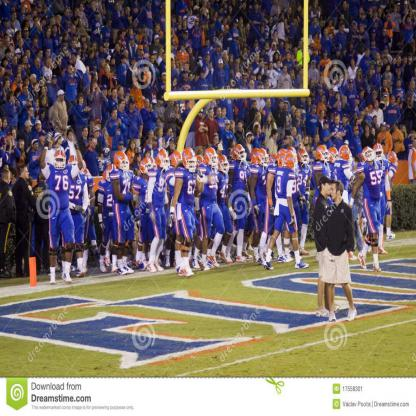face: (330, 184, 338, 201), (325, 183, 332, 195), (57, 157, 64, 167), (188, 161, 195, 170), (222, 162, 228, 172), (211, 156, 217, 166), (8, 135, 14, 145), (25, 168, 30, 179), (239, 151, 244, 162), (146, 165, 152, 174), (20, 142, 25, 152), (13, 130, 18, 140), (122, 161, 127, 171), (17, 92, 22, 102), (9, 170, 14, 180), (227, 16, 233, 24), (26, 78, 31, 87), (69, 66, 74, 75), (302, 156, 308, 163), (323, 153, 329, 160), (217, 150, 223, 157), (377, 152, 383, 159), (263, 157, 268, 165), (127, 7, 131, 17), (238, 122, 243, 130), (37, 125, 42, 133), (25, 86, 29, 96), (42, 134, 47, 142), (70, 131, 74, 141), (47, 49, 51, 59), (268, 100, 273, 108), (117, 45, 122, 53), (30, 108, 34, 117), (43, 97, 47, 106), (18, 75, 22, 84), (14, 57, 18, 66), (11, 94, 15, 103), (132, 142, 136, 151), (27, 50, 31, 59), (93, 140, 97, 149), (114, 111, 118, 120), (109, 20, 113, 29), (145, 101, 150, 108), (170, 142, 175, 149), (94, 84, 99, 91), (57, 59, 62, 66), (356, 99, 361, 106), (96, 131, 101, 138), (258, 115, 263, 122), (411, 134, 416, 141), (210, 110, 214, 118), (35, 142, 39, 150), (42, 111, 46, 119), (122, 102, 126, 110), (37, 58, 41, 66), (7, 39, 11, 47), (84, 129, 88, 137), (47, 58, 51, 66), (37, 8, 42, 14), (265, 84, 270, 90), (42, 20, 47, 26), (320, 20, 325, 26), (218, 110, 222, 117), (223, 110, 227, 117), (131, 103, 135, 110), (7, 82, 11, 89), (116, 81, 120, 88), (25, 57, 29, 64), (169, 130, 173, 137), (94, 76, 98, 83), (384, 81, 388, 88), (254, 103, 258, 110), (186, 65, 190, 72), (114, 90, 118, 97), (336, 118, 340, 125), (66, 51, 70, 58), (313, 63, 317, 70), (18, 52, 22, 59), (40, 52, 44, 59), (35, 19, 39, 26), (26, 23, 30, 30), (54, 27, 58, 34), (26, 31, 30, 38), (5, 121, 9, 128), (398, 82, 402, 89), (316, 136, 320, 143), (285, 104, 289, 111), (33, 77, 37, 84), (43, 88, 47, 95), (155, 141, 159, 148), (150, 143, 154, 150), (151, 133, 155, 140), (52, 20, 56, 27), (8, 51, 12, 58), (72, 56, 76, 63), (306, 138, 310, 145), (109, 89, 113, 96), (301, 69, 305, 76), (49, 142, 53, 149), (383, 126, 387, 132), (392, 99, 396, 105), (36, 101, 40, 107), (347, 75, 351, 81), (147, 152, 151, 158), (387, 67, 391, 73), (93, 44, 97, 50), (54, 79, 58, 85), (104, 89, 108, 95), (107, 67, 111, 73), (259, 125, 262, 133), (173, 61, 176, 69), (185, 73, 189, 79), (325, 52, 329, 58), (98, 124, 102, 130), (14, 14, 18, 20), (160, 100, 164, 106), (171, 101, 175, 107), (177, 104, 180, 112), (325, 123, 329, 129), (199, 113, 203, 119), (172, 41, 176, 47), (220, 63, 224, 69), (313, 50, 317, 56), (374, 94, 378, 100), (366, 110, 370, 116), (116, 5, 120, 11), (360, 26, 364, 32), (243, 4, 247, 10), (61, 94, 65, 100), (59, 138, 63, 144), (19, 67, 22, 75), (121, 143, 124, 151), (138, 156, 142, 162), (270, 19, 274, 25), (300, 41, 304, 47), (34, 11, 37, 19), (79, 20, 83, 26), (73, 28, 77, 34), (59, 37, 63, 43), (356, 130, 360, 136), (366, 127, 370, 133), (360, 114, 364, 120), (113, 59, 117, 65), (398, 71, 402, 77), (398, 57, 401, 65), (251, 83, 255, 89), (259, 85, 263, 91), (254, 75, 258, 81), (278, 62, 282, 68), (163, 140, 166, 148), (124, 58, 127, 66), (5, 61, 9, 67), (133, 61, 137, 67), (207, 41, 211, 47), (269, 116, 273, 122), (298, 136, 302, 142), (384, 59, 388, 65), (357, 121, 361, 127), (376, 102, 379, 110), (361, 92, 365, 98), (311, 82, 315, 88), (67, 20, 71, 26), (375, 118, 378, 125), (373, 130, 376, 137), (344, 118, 347, 125), (294, 130, 297, 137), (351, 44, 354, 51), (344, 3, 347, 10), (134, 22, 137, 29), (121, 89, 124, 96), (234, 140, 237, 147), (78, 10, 81, 17), (127, 52, 130, 59), (161, 130, 164, 137), (231, 57, 234, 64), (29, 125, 32, 132), (355, 25, 358, 32), (48, 30, 51, 37), (4, 144, 7, 151), (297, 111, 300, 118), (285, 67, 288, 74), (409, 97, 412, 104), (20, 33, 23, 40), (191, 75, 194, 82), (81, 97, 84, 104), (209, 3, 212, 10), (276, 133, 279, 140), (152, 57, 155, 64), (342, 15, 345, 22), (5, 22, 9, 27), (190, 2, 194, 7), (344, 98, 348, 103), (244, 79, 248, 84), (270, 64, 274, 69), (216, 137, 220, 142), (82, 37, 87, 41), (149, 3, 153, 8), (173, 19, 177, 24), (351, 83, 354, 89), (352, 61, 355, 67), (303, 97, 306, 103), (140, 50, 143, 56), (342, 26, 345, 32), (315, 20, 318, 26), (248, 26, 251, 32), (131, 40, 134, 46), (367, 52, 370, 58), (371, 71, 374, 77), (309, 100, 312, 106), (313, 109, 316, 115), (322, 113, 325, 119), (321, 89, 324, 95), (323, 97, 326, 103), (337, 94, 340, 100), (164, 75, 167, 81), (165, 55, 168, 61), (103, 61, 106, 67), (92, 53, 95, 59), (157, 39, 160, 45), (136, 9, 139, 15), (383, 31, 386, 37), (206, 24, 209, 30), (234, 123, 237, 129), (249, 137, 252, 143), (203, 72, 206, 78), (97, 14, 100, 20), (81, 5, 84, 11), (180, 17, 183, 23), (207, 56, 210, 62), (188, 103, 191, 109), (257, 42, 260, 48), (287, 44, 290, 50), (289, 9, 292, 15), (285, 20, 288, 26), (262, 27, 265, 33), (23, 8, 26, 14), (29, 16, 32, 22), (35, 39, 38, 45), (58, 20, 61, 26), (76, 20, 79, 26), (102, 47, 105, 53), (259, 75, 262, 81), (266, 66, 269, 72), (408, 18, 411, 24), (410, 57, 413, 63), (403, 127, 406, 133), (413, 84, 416, 90), (87, 68, 90, 74), (68, 10, 71, 16), (277, 55, 280, 61), (202, 24, 205, 30), (213, 24, 216, 30), (288, 55, 291, 61), (281, 43, 284, 49), (92, 3, 95, 9), (131, 30, 134, 36), (405, 58, 408, 64), (96, 52, 99, 58), (244, 49, 248, 53), (395, 126, 398, 131), (389, 17, 392, 22), (331, 22, 334, 27), (236, 24, 239, 29), (241, 20, 244, 25), (256, 6, 259, 11), (377, 55, 380, 60), (344, 51, 347, 56), (379, 9, 382, 14), (370, 8, 373, 13), (227, 125, 230, 130), (385, 97, 388, 102), (155, 55, 158, 60), (145, 45, 148, 50), (157, 27, 160, 32), (13, 22, 16, 27), (184, 22, 187, 27), (185, 19, 188, 24), (186, 35, 189, 40), (182, 47, 185, 52), (189, 50, 192, 55), (160, 51, 163, 56), (295, 50, 298, 55), (311, 43, 314, 48), (325, 31, 328, 36), (317, 35, 320, 40), (373, 41, 376, 46), (386, 50, 389, 55), (316, 1, 319, 6), (45, 9, 48, 14), (226, 53, 229, 58), (395, 9, 398, 14), (263, 50, 266, 55), (13, 8, 16, 13), (66, 36, 69, 41), (84, 44, 87, 49), (76, 37, 79, 42), (281, 103, 284, 108), (257, 56, 260, 61), (374, 34, 377, 39), (398, 98, 401, 103), (274, 46, 277, 51), (274, 35, 277, 40), (218, 47, 221, 52), (216, 14, 219, 19), (214, 38, 217, 43), (205, 3, 208, 8), (225, 20, 228, 25), (221, 10, 224, 15), (202, 11, 205, 16), (266, 44, 269, 49), (292, 73, 295, 78), (124, 31, 127, 36), (359, 71, 362, 76), (161, 9, 164, 14), (340, 103, 343, 108), (308, 147, 311, 152), (1, 120, 3, 127), (230, 8, 233, 12), (361, 10, 364, 14), (197, 22, 200, 26), (298, 8, 301, 12), (144, 28, 147, 32), (106, 43, 109, 47), (363, 15, 366, 19), (375, 13, 378, 17), (310, 138, 312, 144), (330, 90, 333, 94), (372, 65, 375, 69), (226, 29, 228, 34), (297, 64, 299, 69), (339, 51, 341, 56), (383, 54, 385, 59), (379, 68, 381, 72), (360, 35, 362, 39)
